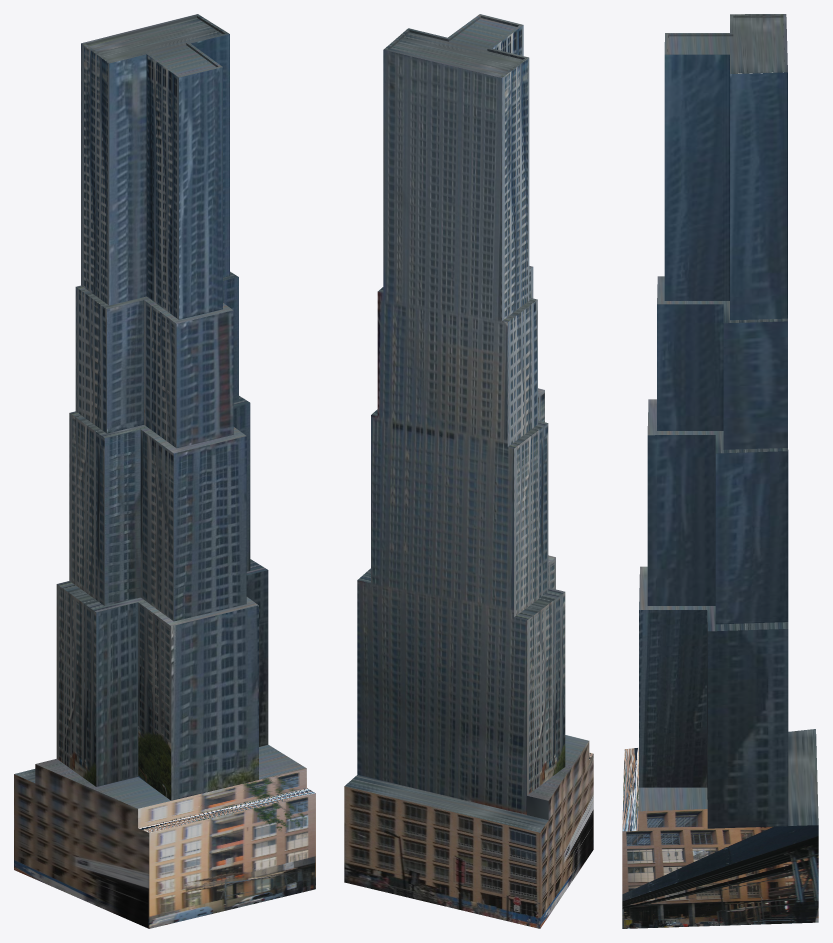
File: Beekman Tower.FBX
The picture shows the model from 3 angles, left to right: view 1: azimuth 30°, elevation 25°; view 2: azimuth 150°, elevation 25°; view 3: azimuth 270°, elevation 25°; orthographic projection.
Visible parts, largest first — view 1: Model; view 2: Model; view 3: Model.
Boxes of the visible parts, x1=… form: Model: x1=14, y1=14, x2=315, y2=928; Model: x1=344, y1=14, x2=593, y2=928; Model: x1=622, y1=14, x2=818, y2=928.
Size of the model in its own units: 2774 by 10572 by 2244.
Materials: 43 (35 with a texture image).
